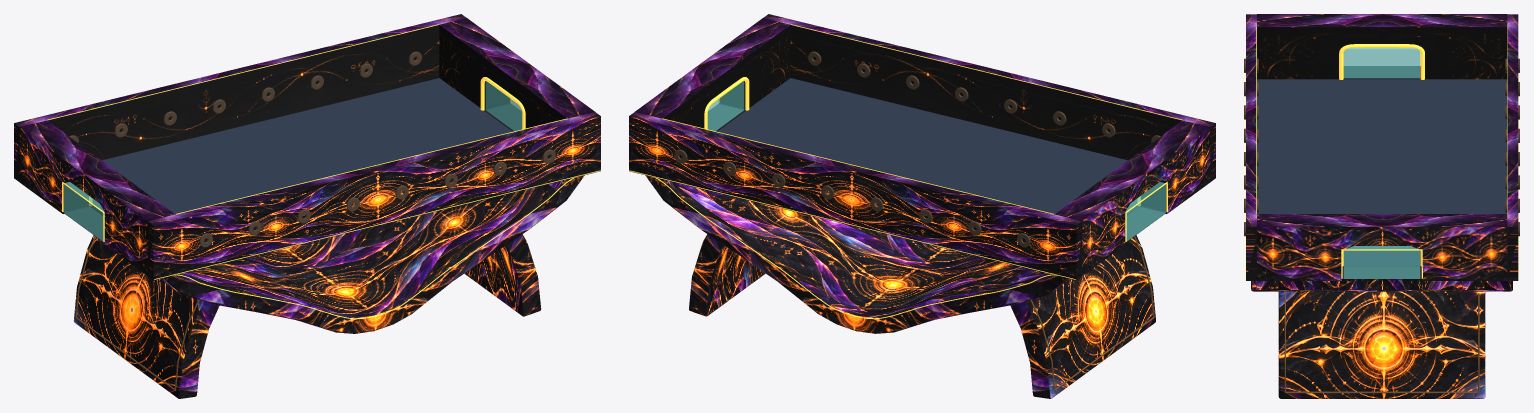
The model's file is fuzeball_table_circuit_synaptic_relic.glb.
3 views of the same model, side by side, from view 1: azimuth 30°, elevation 25°; view 2: azimuth 150°, elevation 25°; view 3: azimuth 270°, elevation 25° (orthographic). The views are drawn at different scales.
Parts seen in each view (by area): view 1: table_base.001, wall_side_near.001, field.001, wall_side_far.001, wall_end_l_far.001, wall_end_r_far.001, wall_end_l_near.001, wall_end_r_near.001, goal_frame_header_l.001, goal_frame_header_r.001, goal_net_left.001, goal_net_right.001 (+6 smaller); view 2: table_base.001, wall_side_far.001, field.001, wall_side_near.001, wall_end_l_near.001, wall_end_r_near.001, wall_end_l_far.001, wall_end_r_far.001, goal_frame_header_l.001, goal_frame_header_r.001, goal_net_left.001, goal_net_right.001 (+6 smaller); view 3: field.001, table_base.001, wall_end_r_far.001, wall_end_r_near.001, wall_end_l_far.001, wall_end_l_near.001, wall_side_far.001, wall_side_near.001, goal_frame_header_r.001, goal_net_right.001, goal_frame_header_l.001, goal_net_left.001 (+5 smaller).
Part boxes in pixels (x1=…): table_base.001: x1=73, y1=175, x2=584, y2=398; wall_side_near.001: x1=148, y1=112, x2=600, y2=280; field.001: x1=92, y1=78, x2=512, y2=214; wall_side_far.001: x1=14, y1=14, x2=466, y2=181; wall_end_l_far.001: x1=19, y1=120, x2=90, y2=213; wall_end_r_far.001: x1=439, y1=18, x2=509, y2=108; wall_end_l_near.001: x1=104, y1=182, x2=175, y2=275; wall_end_r_near.001: x1=524, y1=80, x2=594, y2=128; goal_frame_header_l.001: x1=63, y1=152, x2=131, y2=211; goal_frame_header_r.001: x1=483, y1=49, x2=551, y2=107; goal_net_left.001: x1=64, y1=182, x2=104, y2=241; goal_net_right.001: x1=485, y1=81, x2=522, y2=131; table_base.001: x1=645, y1=175, x2=1155, y2=398; wall_side_far.001: x1=629, y1=112, x2=1081, y2=280; field.001: x1=717, y1=78, x2=1137, y2=214; wall_side_near.001: x1=763, y1=14, x2=1215, y2=181; wall_end_l_near.001: x1=1139, y1=120, x2=1210, y2=213; wall_end_r_near.001: x1=720, y1=18, x2=790, y2=108; wall_end_l_far.001: x1=1054, y1=182, x2=1125, y2=275; wall_end_r_far.001: x1=635, y1=80, x2=705, y2=128; goal_frame_header_l.001: x1=1098, y1=152, x2=1166, y2=211; goal_frame_header_r.001: x1=678, y1=49, x2=746, y2=107; goal_net_left.001: x1=1125, y1=182, x2=1165, y2=241; goal_net_right.001: x1=707, y1=81, x2=744, y2=131; field.001: x1=1257, y1=79, x2=1507, y2=265; table_base.001: x1=1251, y1=279, x2=1512, y2=398; wall_end_r_far.001: x1=1422, y1=214, x2=1507, y2=280; wall_end_r_near.001: x1=1257, y1=214, x2=1341, y2=280; wall_end_l_far.001: x1=1422, y1=14, x2=1507, y2=79; wall_end_l_near.001: x1=1257, y1=14, x2=1341, y2=79; wall_side_far.001: x1=1507, y1=14, x2=1518, y2=280; wall_side_near.001: x1=1246, y1=14, x2=1256, y2=280; goal_frame_header_r.001: x1=1341, y1=214, x2=1422, y2=249; goal_net_right.001: x1=1343, y1=246, x2=1420, y2=278; goal_frame_header_l.001: x1=1341, y1=14, x2=1422, y2=47; goal_net_left.001: x1=1343, y1=47, x2=1420, y2=78.
Bounding box in the file's own units: 138 × 58.33 × 74.9.
Materials: 12 (5 with a texture image).
